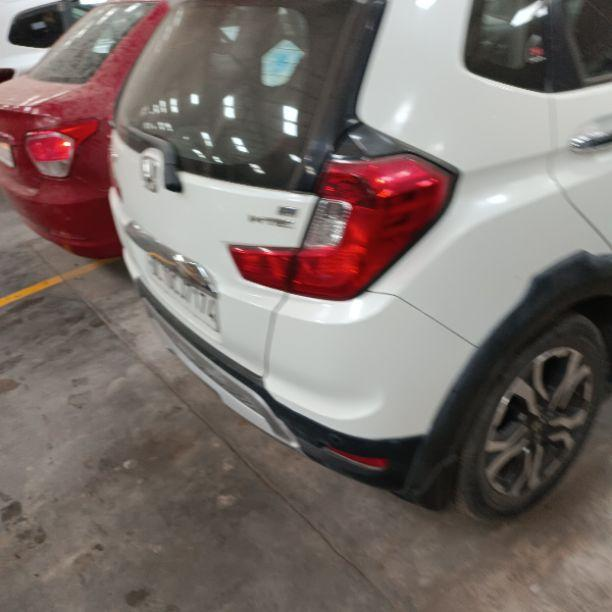license_plate: (142, 250, 221, 333)
